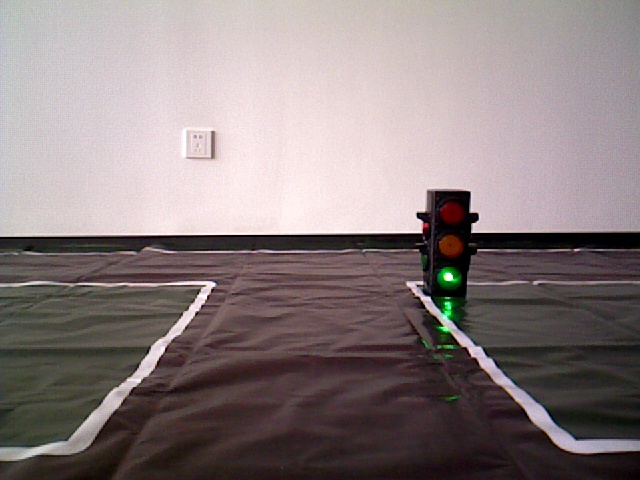green: (424, 195, 469, 290)
